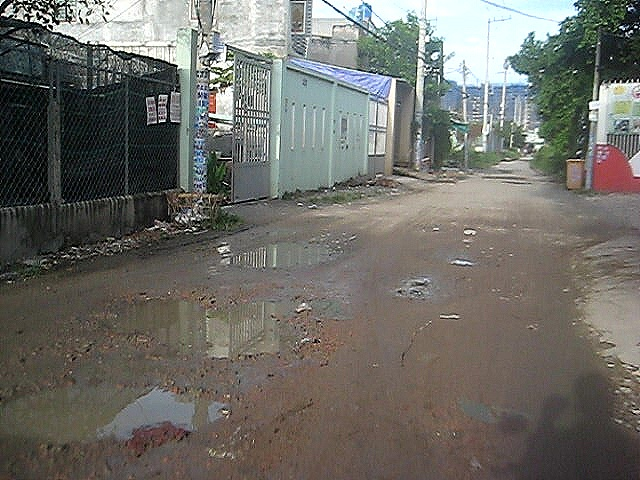hole: (1, 374, 241, 452), (78, 288, 328, 362), (214, 235, 349, 270), (396, 275, 436, 302), (449, 258, 474, 267)
